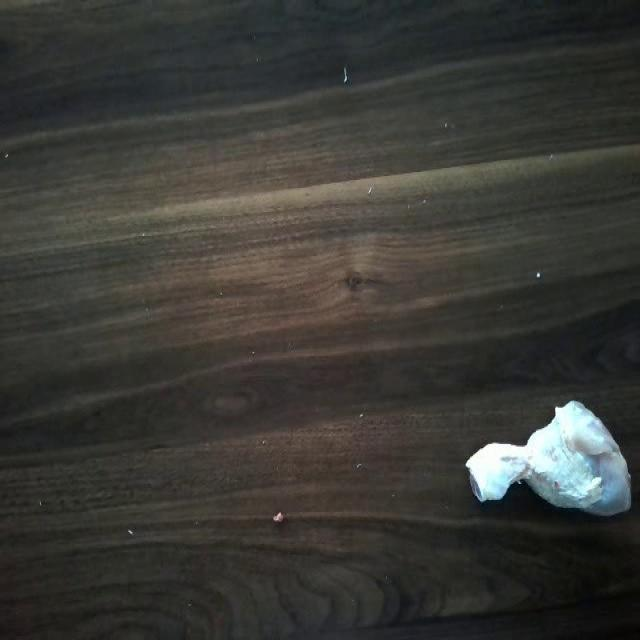leg: (466, 397, 633, 531)
